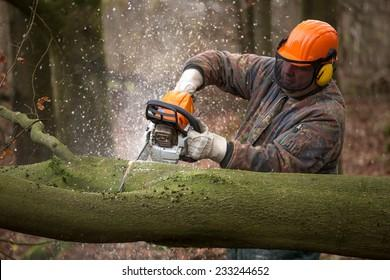gloves: (188, 131, 226, 164), (171, 66, 204, 96)
